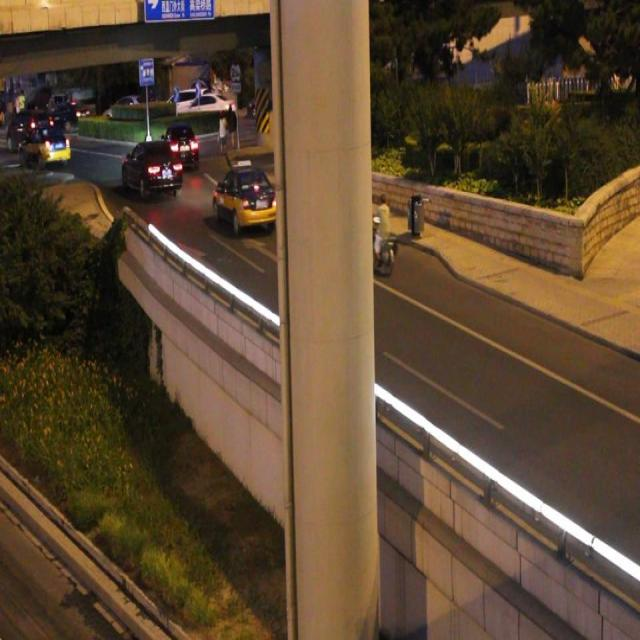car: (212, 159, 279, 233), (122, 138, 182, 197)
